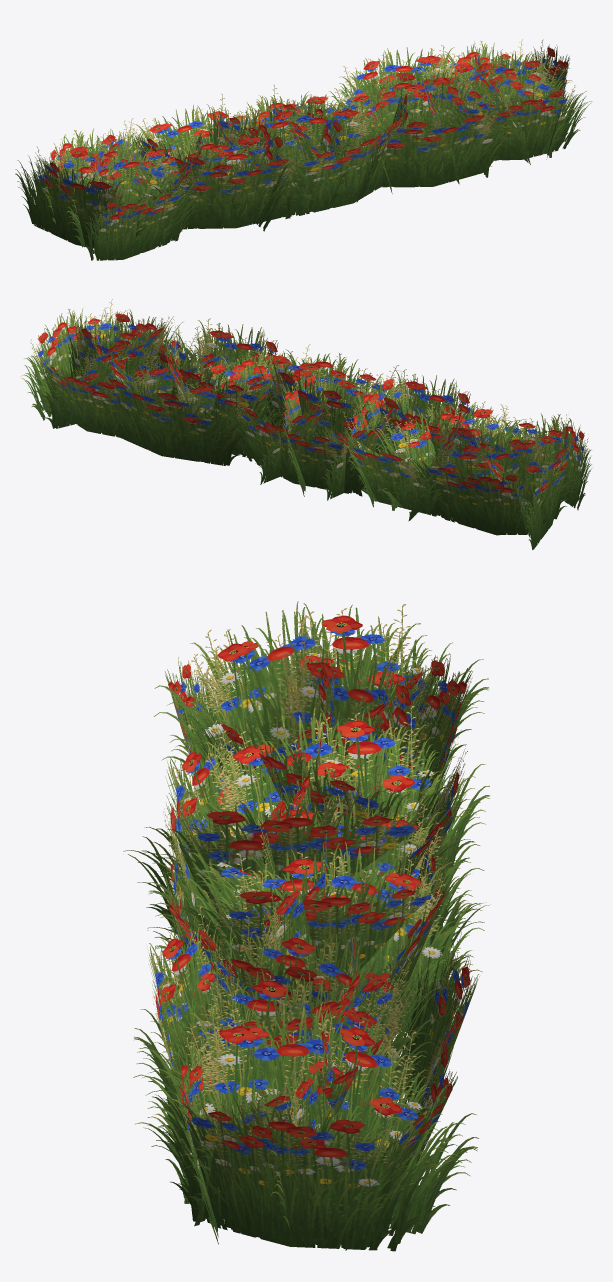
File: wildflower_strip.glb
The picture shows the model from 3 angles, top to bottom: view 1: azimuth 30°, elevation 25°; view 2: azimuth 150°, elevation 25°; view 3: azimuth 270°, elevation 25°; orthographic projection. The views are drawn at different scales.
Visible parts, largest first — view 1: WildflowerStrip; view 2: WildflowerStrip; view 3: WildflowerStrip.
Boxes of the visible parts, box(x1,y1,x2,y2) form: WildflowerStrip: box(15, 39, 592, 260); WildflowerStrip: box(20, 299, 591, 549); WildflowerStrip: box(123, 601, 490, 1251).
Size of the model in its own units: 5 by 0.8795 by 1.6.
1 material, 1 textured.
